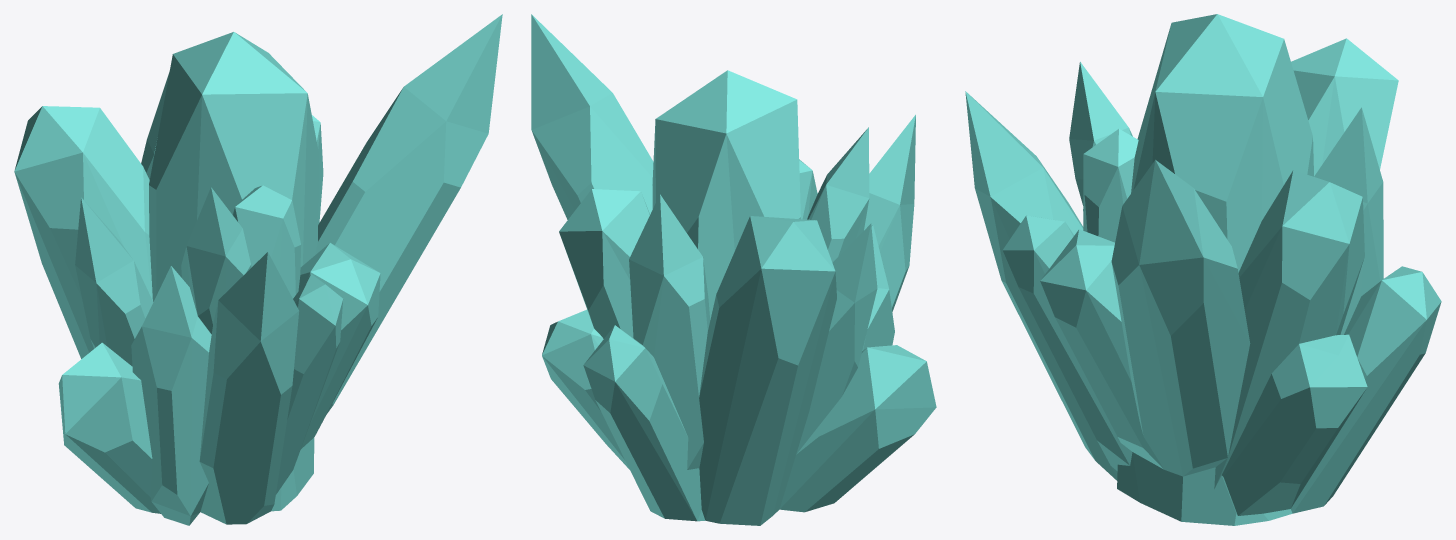
File: FirstCrystal.fbx
3 renders of one model, left to right at view 1: azimuth 30°, elevation 25°; view 2: azimuth 150°, elevation 25°; view 3: azimuth 270°, elevation 25°, orthographic. The views are drawn at different scales.
Parts seen in each view (by area): view 1: Cube; view 2: Cube; view 3: Cube.
Part boxes in pixels (left/top/right/bottom): Cube: left=14, top=14, right=502, bottom=525; Cube: left=531, top=14, right=936, bottom=525; Cube: left=965, top=14, right=1441, bottom=525.
Size of the model in its own units: 370 by 360 by 327.
